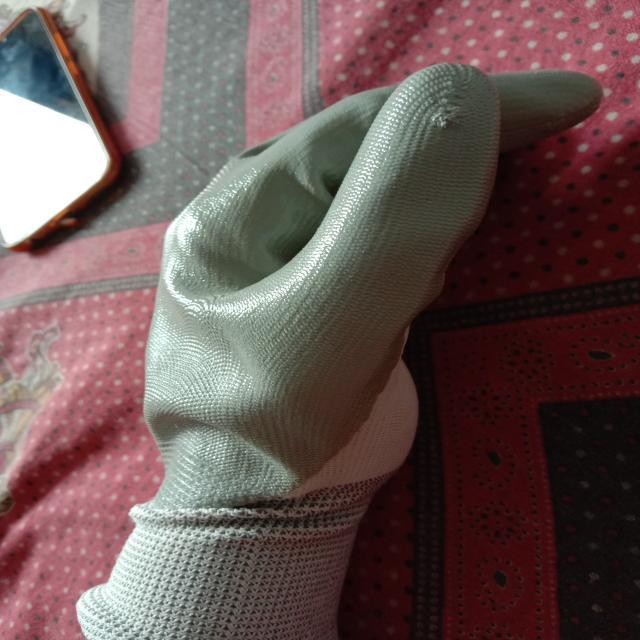glove_hand: (57, 62, 611, 640)
